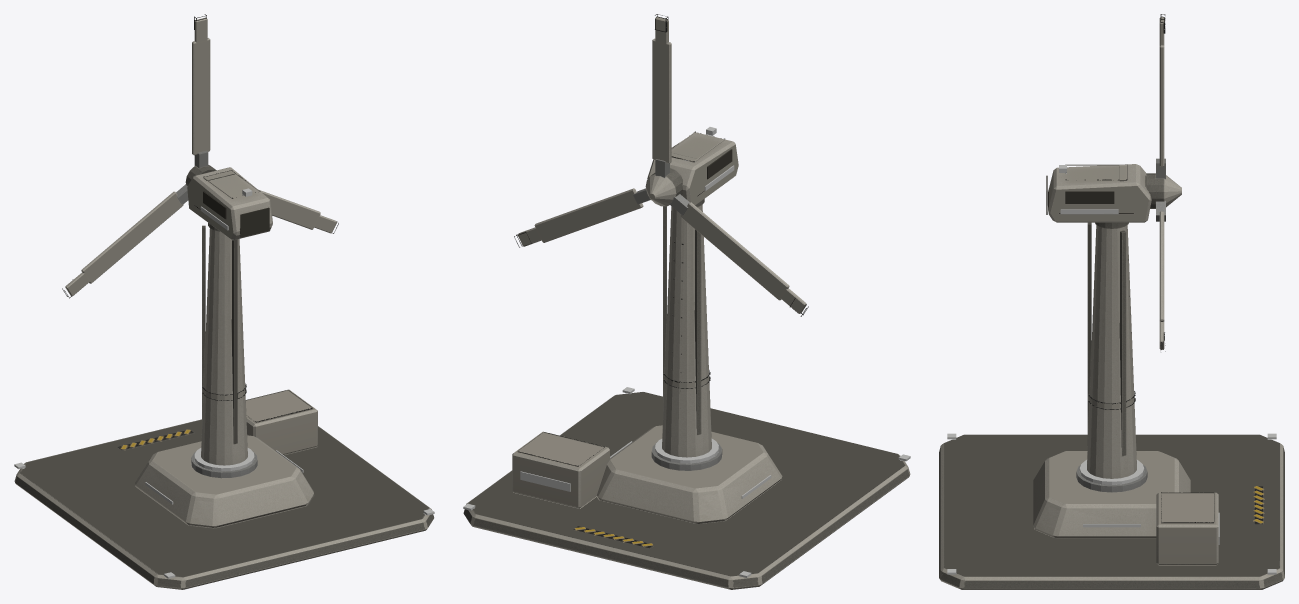
File: ord_windmill.fbx
3 renders of one model, left to right at view 1: azimuth 30°, elevation 25°; view 2: azimuth 150°, elevation 25°; view 3: azimuth 270°, elevation 25°, orthographic. The views are drawn at different scales.
Visible parts, largest first — view 1: base_bar, rotor_bar, base_glow_power_bar; view 2: base_bar, rotor_bar, base_glow_power_bar; view 3: base_bar, rotor_bar, base_glow_power_bar, base_glow_running_bar.
Part boxes in pixels (box(x1,y1,x2,y2)): base_bar: box(14, 167, 434, 589); rotor_bar: box(62, 14, 338, 298); base_glow_power_bar: box(194, 206, 254, 471); base_bar: box(463, 131, 910, 589); rotor_bar: box(514, 14, 808, 316); base_glow_power_bar: box(520, 160, 734, 491); base_bar: box(939, 164, 1284, 589); rotor_bar: box(1146, 14, 1181, 351); base_glow_power_bar: box(1061, 209, 1219, 544); base_glow_running_bar: box(947, 165, 1276, 574).
Bounding box in the file's own units: 1555 × 2685 × 1555.
2 materials, 2 textured.
